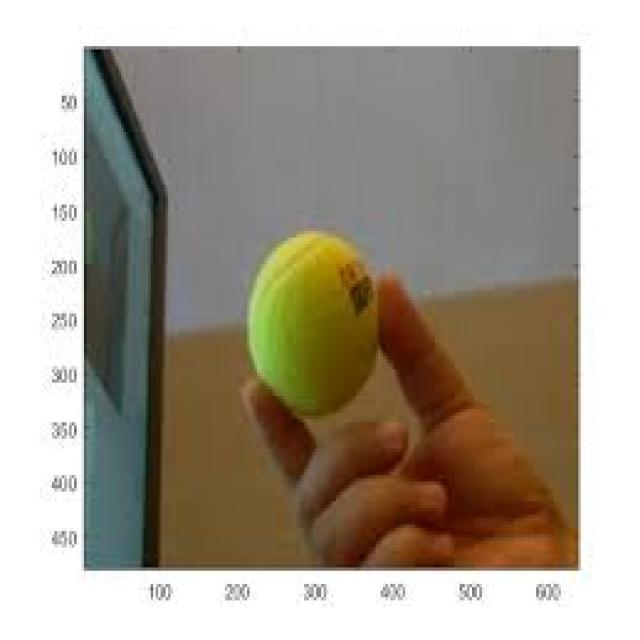Tennis-Ball: (220, 207, 405, 448)
